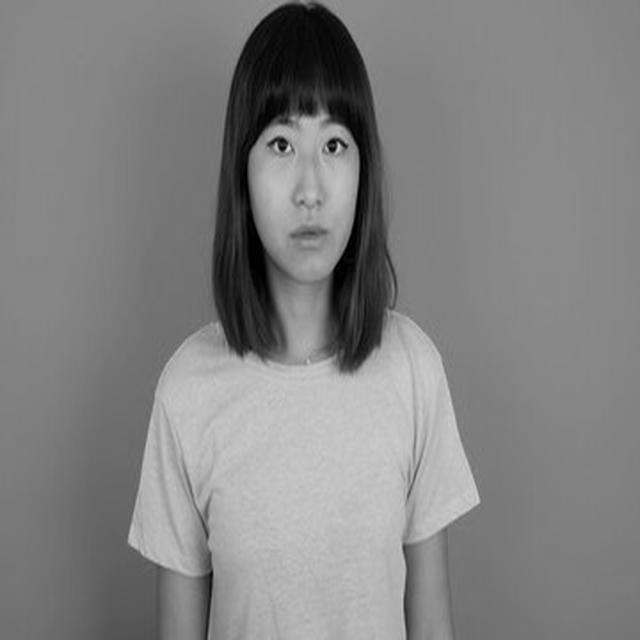Neutral: (249, 73, 360, 282)
